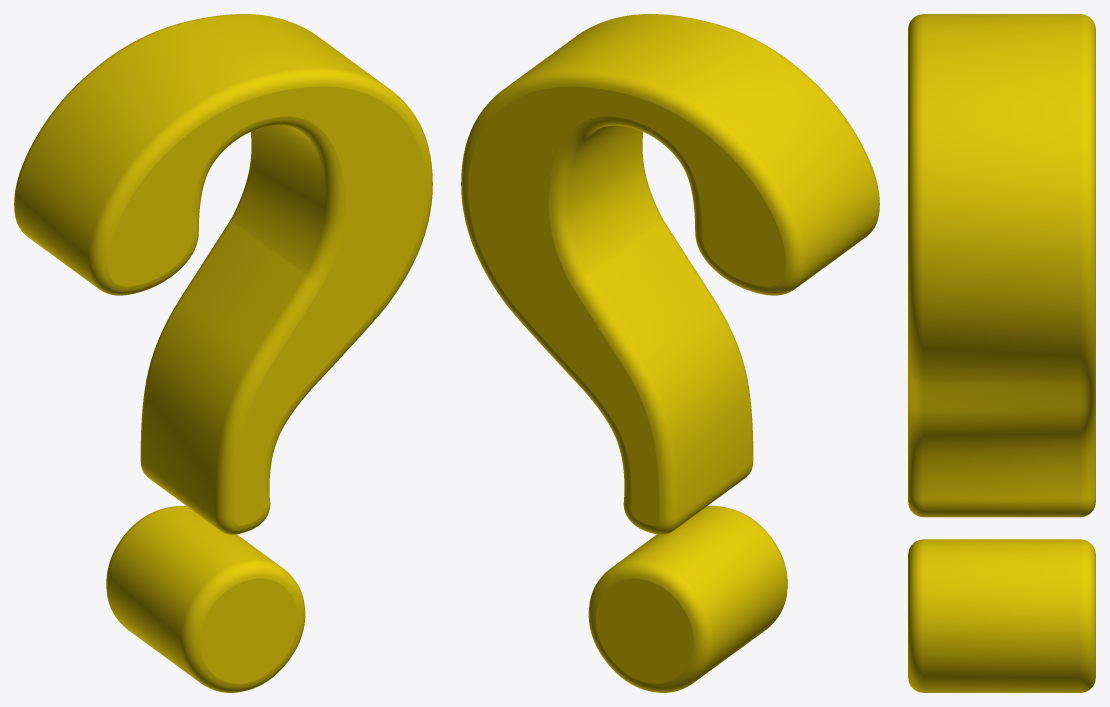
Rendered from Hatena.fbx.
3 views of the same model, side by side, from view 1: azimuth 30°, elevation 25°; view 2: azimuth 150°, elevation 25°; view 3: azimuth 270°, elevation 25° (orthographic). The views are drawn at different scales.
Visible parts, largest first — view 1: Hatena; view 2: Hatena; view 3: Hatena.
Boxes of the visible parts, x1,y1,x2,y2 form: Hatena: [14, 14, 432, 692]; Hatena: [461, 14, 879, 692]; Hatena: [908, 14, 1095, 692].
Size of the model in its own units: 205 by 349 by 90.
1 material, 1 textured.
